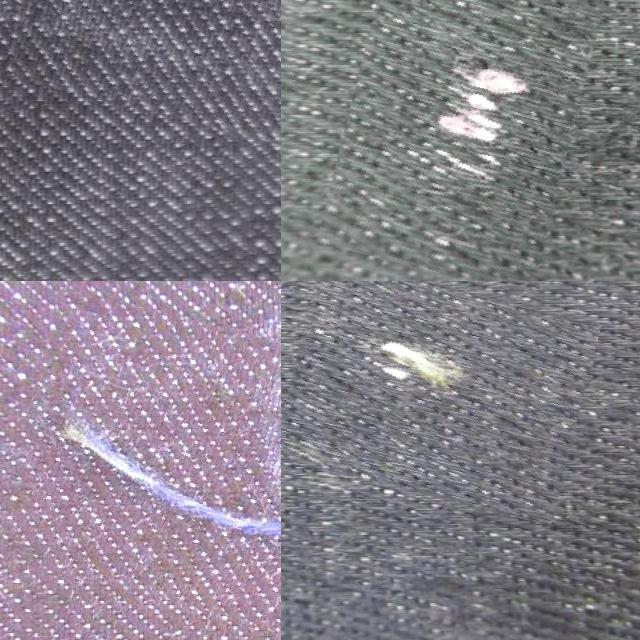stains: (5, 311, 281, 638), (332, 0, 588, 281), (281, 281, 589, 510)
